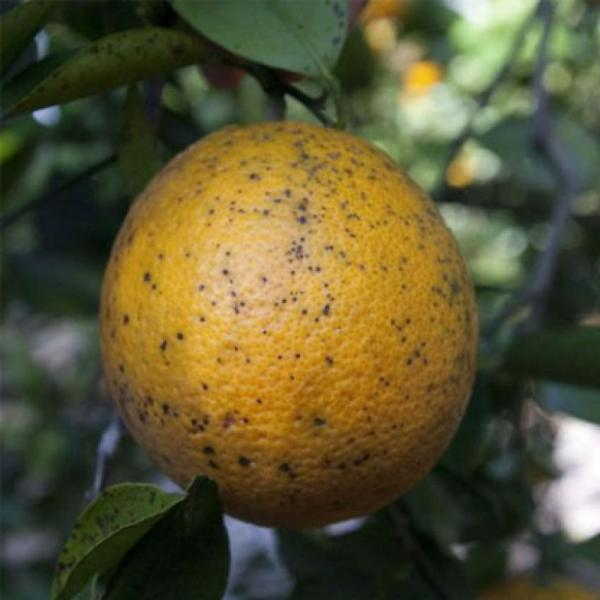Trips: (88, 109, 495, 540)
